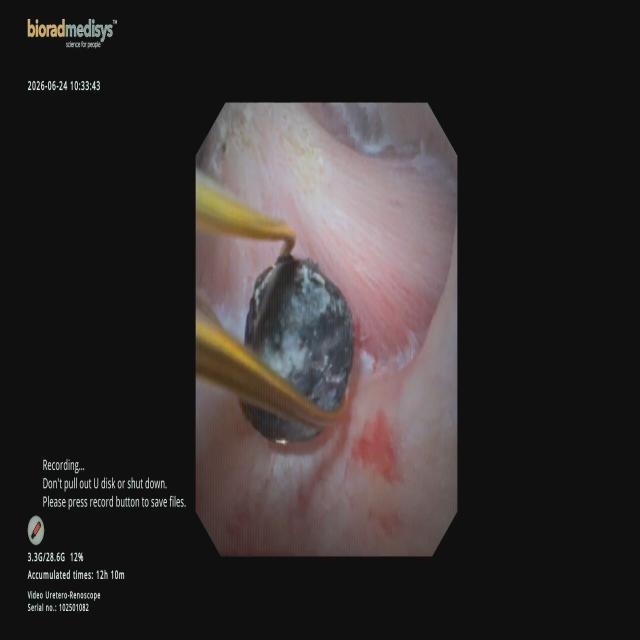stone-new: (245, 257, 353, 409), (242, 404, 317, 441)
